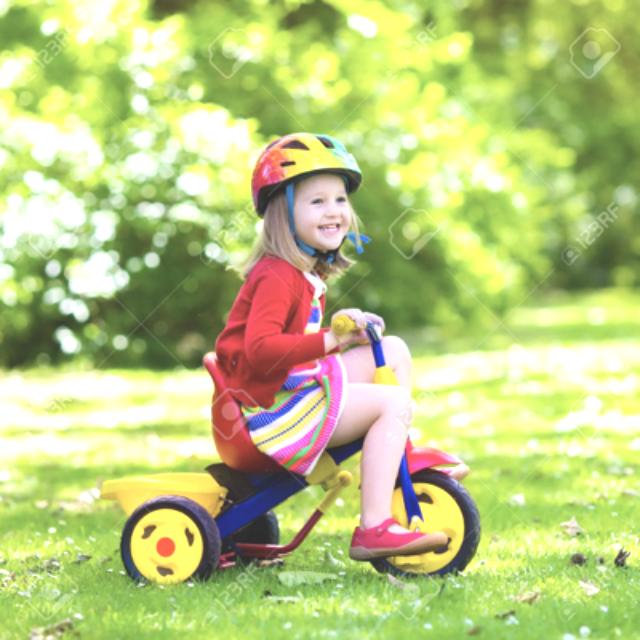With Helmet: (241, 123, 395, 265)
